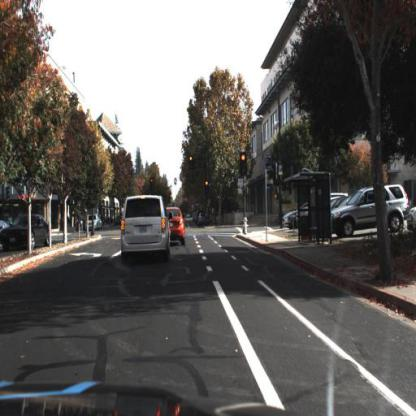car: (331, 183, 410, 242), (332, 183, 409, 238), (120, 193, 171, 266), (1, 209, 53, 254), (168, 200, 187, 252), (83, 212, 104, 236), (84, 212, 105, 233)
trafficLight-Red: (238, 152, 248, 181), (241, 153, 249, 175), (205, 175, 211, 198), (189, 155, 194, 176), (205, 180, 210, 194), (190, 157, 195, 170)
trafficLight-RedLeft: (149, 178, 156, 195), (150, 178, 155, 195)
